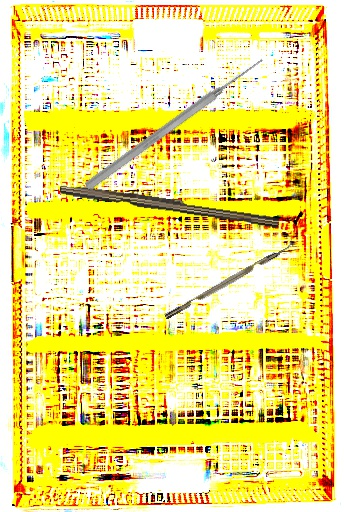Chopper: (160, 236, 297, 320)
Pusher: (82, 52, 269, 194)
Scalpel Handle: (58, 180, 281, 229)
